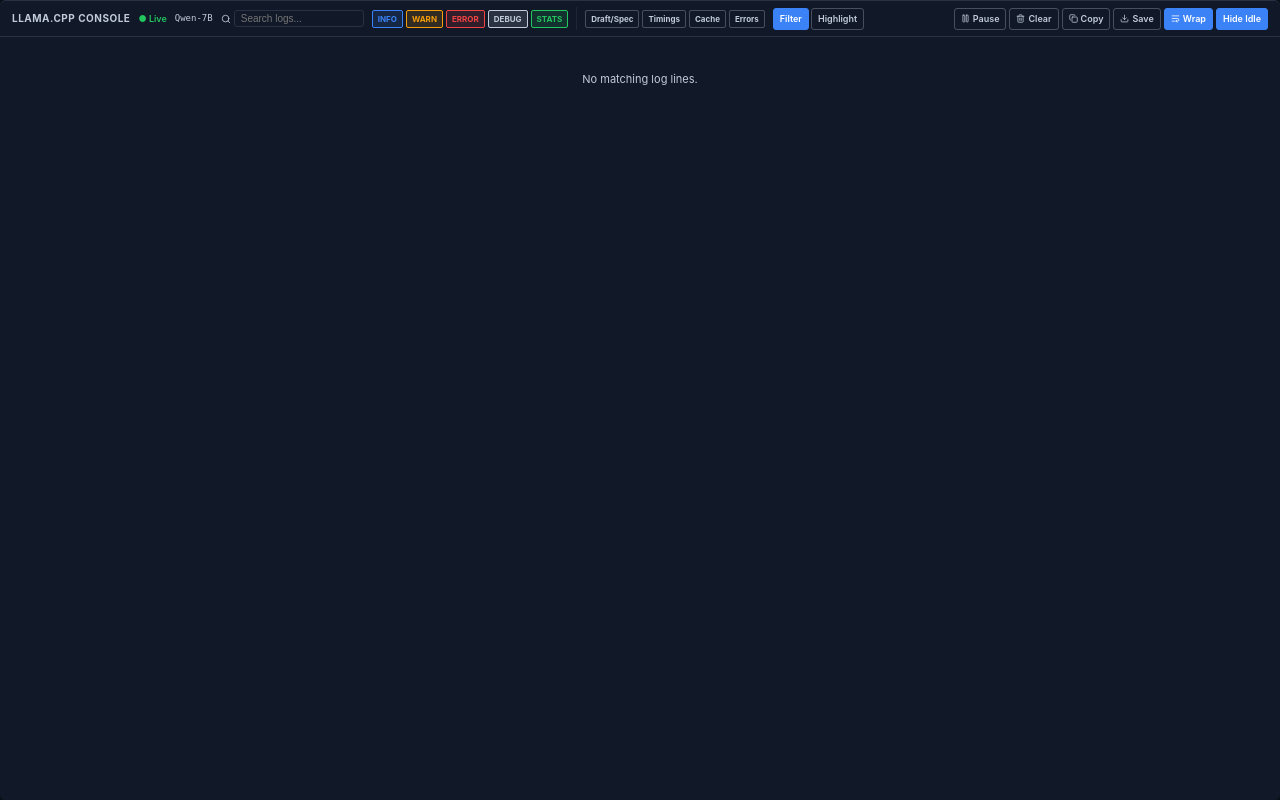
LogConsole hide idle filtering › shows idle lines when Hide Idle is toggled off
expect the text "update_slots: all slots are idle" is not shown: met
Click the button titled "Show idle lines". click: (1242, 18)
box: [1216,8,1268,30]
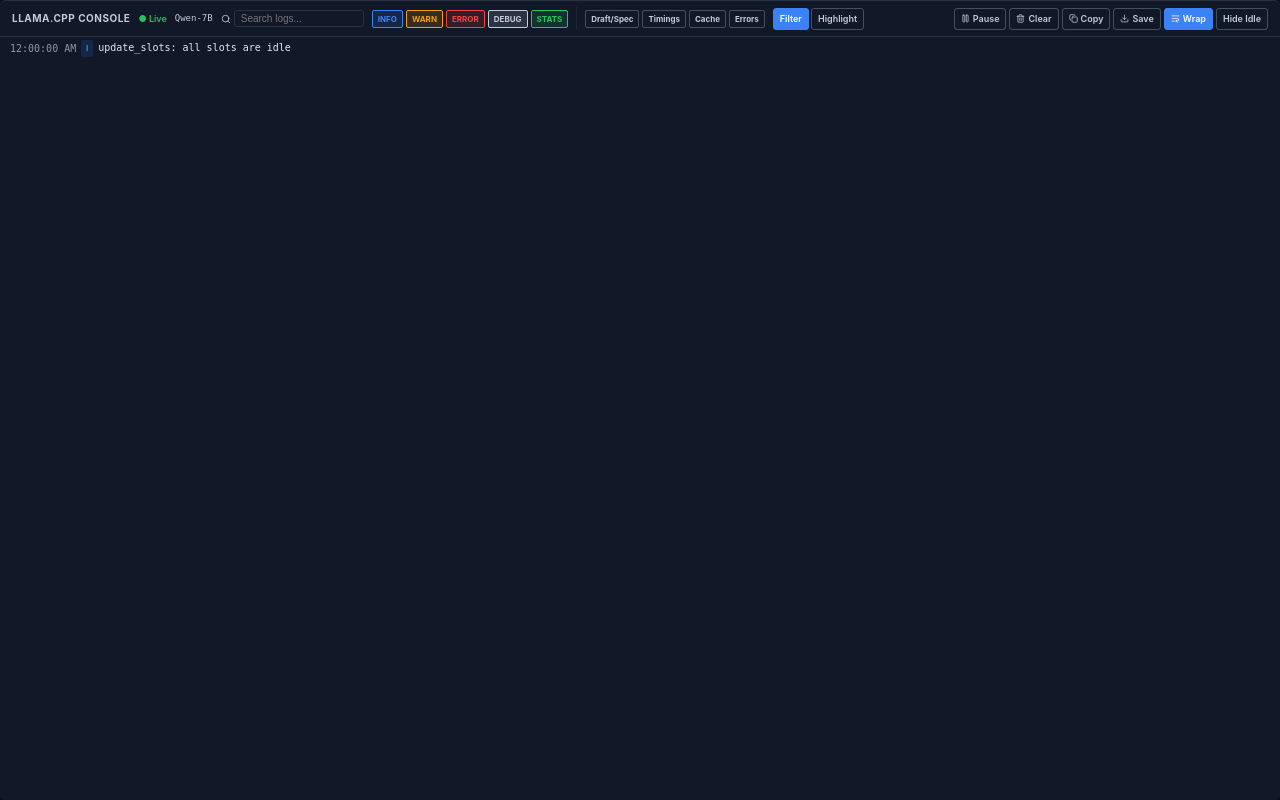
expect the text "update_slots: all slots are idle" is shown: met, box [98,42,291,53]
